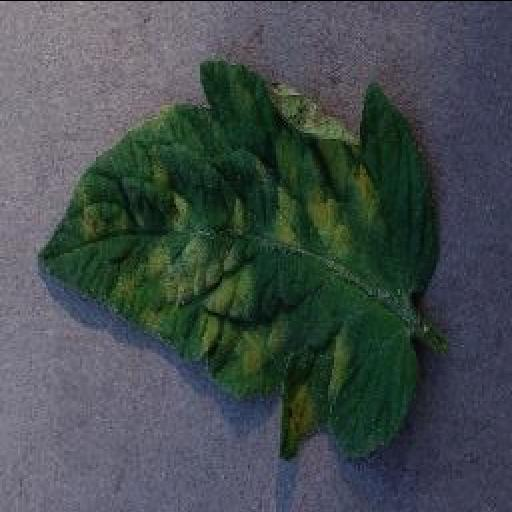disease_tomato: (37, 57, 439, 458)
